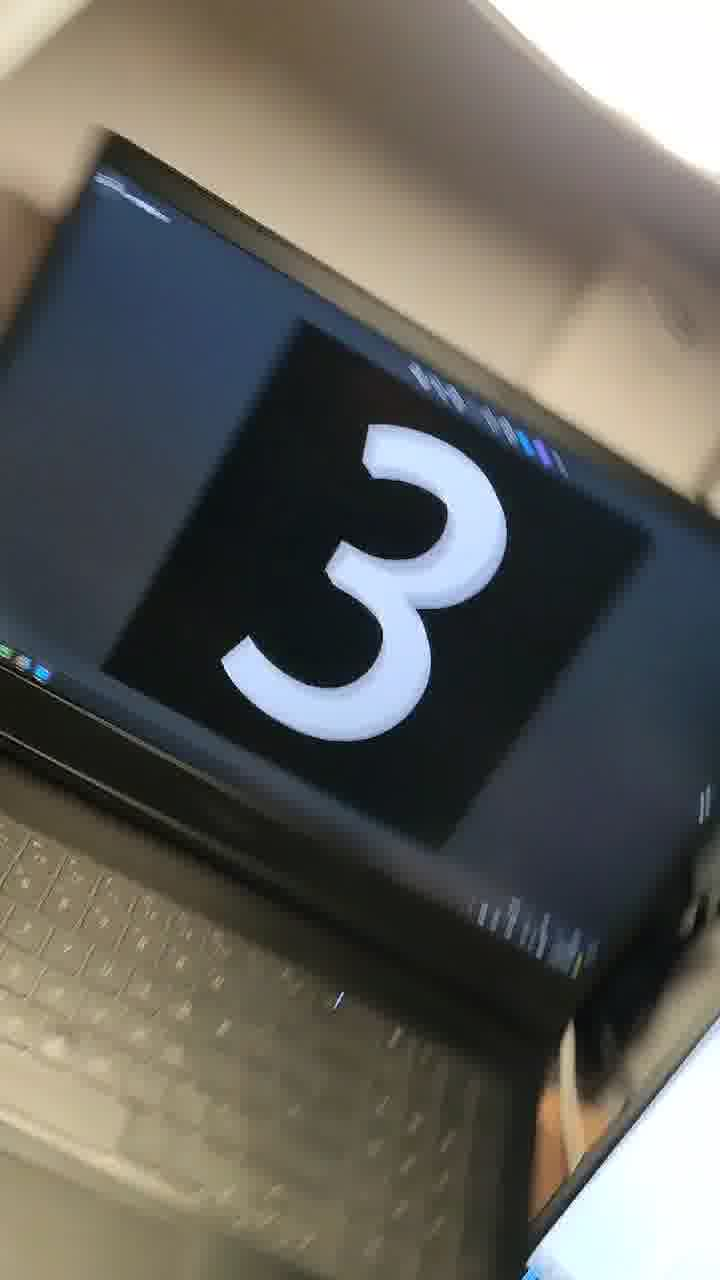three: (175, 391, 542, 779)
